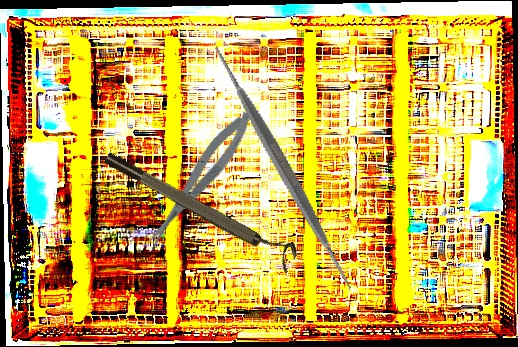Fixation Ring: (101, 140, 302, 274)
Micro Scissor: (135, 106, 260, 256)
Spatula Surgical: (146, 31, 420, 305)
